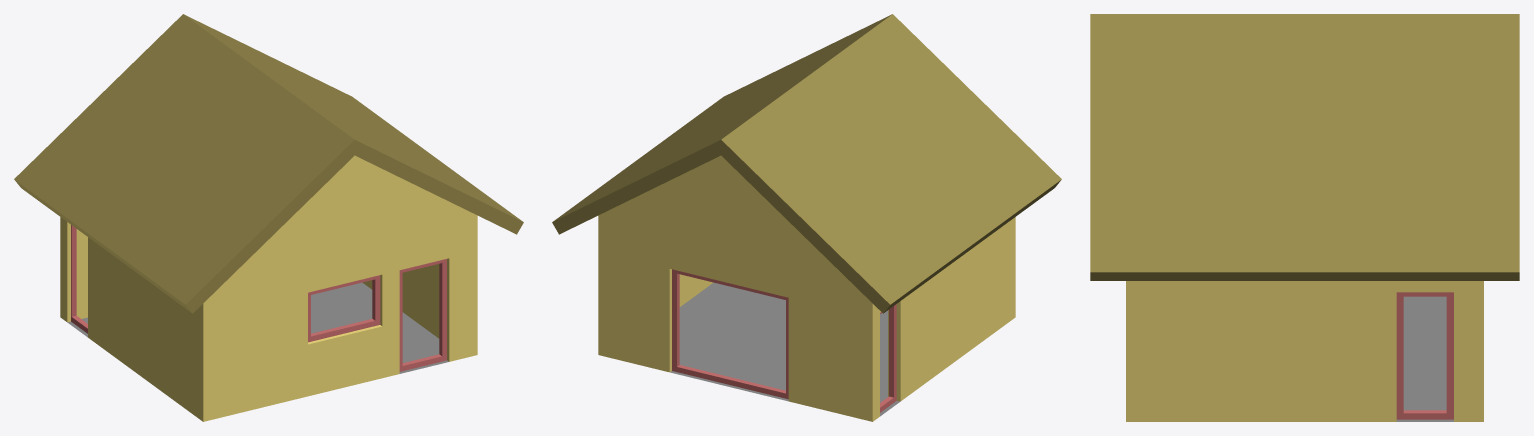
File: result.glb
3 views of the same model, side by side, from view 1: azimuth 30°, elevation 25°; view 2: azimuth 150°, elevation 25°; view 3: azimuth 270°, elevation 25° (orthographic). The views are drawn at different scales.
Parts seen in each view (by area): view 1: 734755e1-730f-430e-a0bb-4b5e90bc9789__undefined (×2), e4b171d4-b030-4729-94b4-8d86efb44212__undefined, ebd3dc49-852a-4613-b10a-610c677440d5__Plane_6, daf7d6ed-61d2-4a60-84ac-789694593498__Box, 4c88e7c4-c6fa-4055-919c-7c0de239c0f7__Box_3, c73ee8fd-98e7-4e84-8d13-3f03712d1c73__Box_12; view 2: 734755e1-730f-430e-a0bb-4b5e90bc9789__undefined (×2), e4b171d4-b030-4729-94b4-8d86efb44212__undefined, ebd3dc49-852a-4613-b10a-610c677440d5__Plane_6, f7acd450-59e6-40d5-a3b6-8180a04ead3c__Box_9, c73ee8fd-98e7-4e84-8d13-3f03712d1c73__Box_12; view 3: 734755e1-730f-430e-a0bb-4b5e90bc9789__undefined, e4b171d4-b030-4729-94b4-8d86efb44212__undefined, ebd3dc49-852a-4613-b10a-610c677440d5__Plane_6, 3ddc0531-7bc3-4b88-8ff6-6af1b9781dde__Box_15.
Boxes of the visible parts, x1,y1,x2,y2 form: 734755e1-730f-430e-a0bb-4b5e90bc9789__undefined (×2): (14,14,523,313); e4b171d4-b030-4729-94b4-8d86efb44212__undefined: (60,155,477,421); ebd3dc49-852a-4613-b10a-610c677440d5__Plane_6: (67,282,448,373); daf7d6ed-61d2-4a60-84ac-789694593498__Box: (399,259,446,371); 4c88e7c4-c6fa-4055-919c-7c0de239c0f7__Box_3: (308,275,380,342); c73ee8fd-98e7-4e84-8d13-3f03712d1c73__Box_12: (71,225,87,333); 734755e1-730f-430e-a0bb-4b5e90bc9789__undefined (×2): (552,14,1061,313); e4b171d4-b030-4729-94b4-8d86efb44212__undefined: (598,155,1015,421); ebd3dc49-852a-4613-b10a-610c677440d5__Plane_6: (670,282,899,416); f7acd450-59e6-40d5-a3b6-8180a04ead3c__Box_9: (672,269,788,399); c73ee8fd-98e7-4e84-8d13-3f03712d1c73__Box_12: (880,304,896,412); 734755e1-730f-430e-a0bb-4b5e90bc9789__undefined: (1090,14,1519,280); e4b171d4-b030-4729-94b4-8d86efb44212__undefined: (1126,281,1483,421); ebd3dc49-852a-4613-b10a-610c677440d5__Plane_6: (1396,296,1453,421); 3ddc0531-7bc3-4b88-8ff6-6af1b9781dde__Box_15: (1396,292,1453,419).
Bounding box in the file's own units: 683 × 500 × 600.
